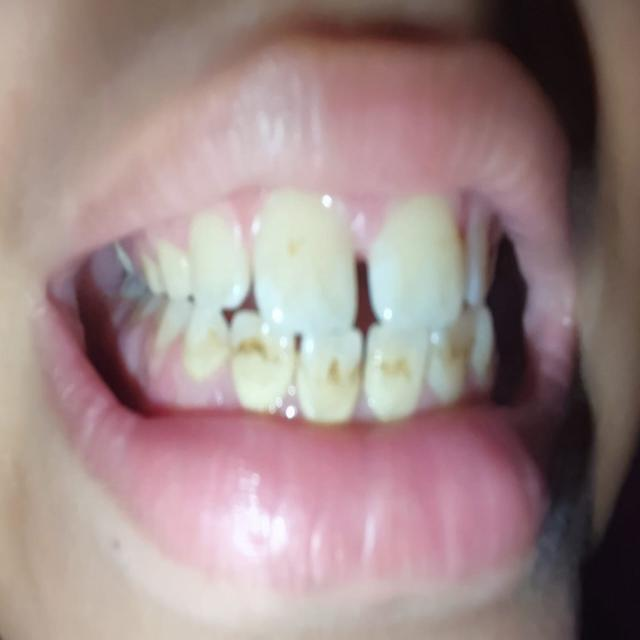tooth: (255, 194, 360, 328), (368, 199, 468, 318), (186, 205, 252, 314), (296, 329, 368, 421), (366, 320, 426, 420), (232, 309, 290, 412), (188, 299, 224, 373)
